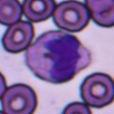N: (25, 30, 91, 83)
